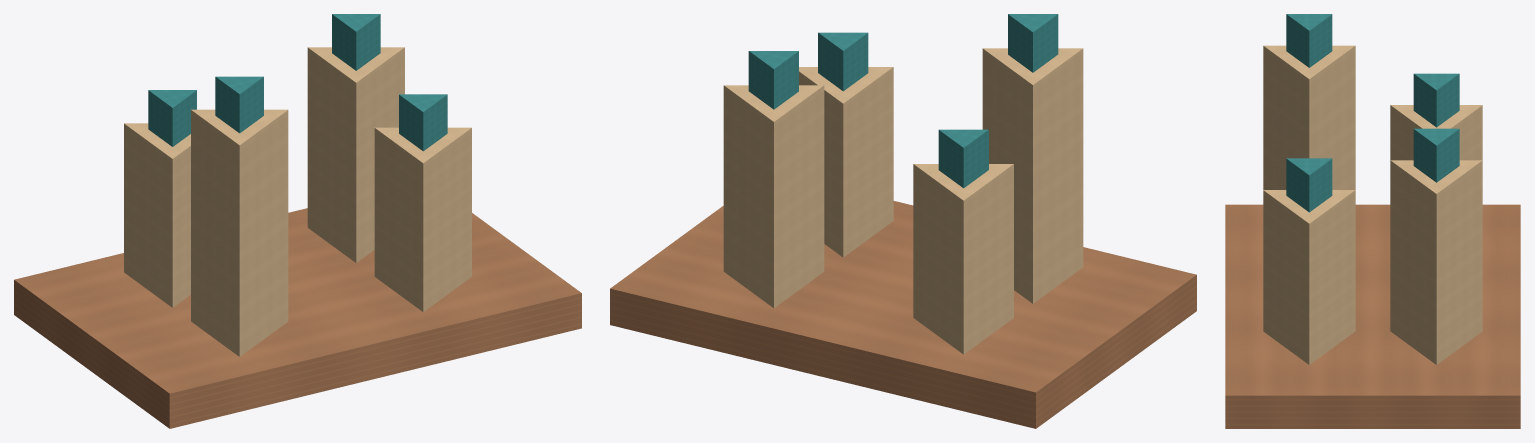
File: atlas100-s091-a04.lod2.glb
The picture shows the model from 3 angles, left to right: view 1: azimuth 30°, elevation 25°; view 2: azimuth 150°, elevation 25°; view 3: azimuth 270°, elevation 25°; orthographic projection. The views are drawn at different scales.
Visible parts, largest first — view 1: atlas100-s091-a04:part-000, atlas100-s091-a04:part-007, atlas100-s091-a04:part-010, atlas100-s091-a04:part-004, atlas100-s091-a04:part-001, atlas100-s091-a04:part-008, atlas100-s091-a04:part-011, atlas100-s091-a04:part-005, atlas100-s091-a04:part-002; view 2: atlas100-s091-a04:part-000, atlas100-s091-a04:part-004, atlas100-s091-a04:part-007, atlas100-s091-a04:part-001, atlas100-s091-a04:part-010, atlas100-s091-a04:part-002, atlas100-s091-a04:part-011, atlas100-s091-a04:part-008, atlas100-s091-a04:part-005; view 3: atlas100-s091-a04:part-000, atlas100-s091-a04:part-004, atlas100-s091-a04:part-010, atlas100-s091-a04:part-007, atlas100-s091-a04:part-001, atlas100-s091-a04:part-005, atlas100-s091-a04:part-011, atlas100-s091-a04:part-002, atlas100-s091-a04:part-008.
Boxes of the visible parts, box(x1,y1,x2,y2) form: atlas100-s091-a04:part-000: box(14, 208, 581, 428); atlas100-s091-a04:part-007: box(191, 109, 288, 356); atlas100-s091-a04:part-010: box(374, 127, 471, 312); atlas100-s091-a04:part-004: box(307, 47, 404, 262); atlas100-s091-a04:part-001: box(124, 123, 190, 307); atlas100-s091-a04:part-008: box(215, 76, 263, 133); atlas100-s091-a04:part-011: box(399, 94, 447, 151); atlas100-s091-a04:part-005: box(332, 14, 380, 70); atlas100-s091-a04:part-002: box(148, 90, 196, 146); atlas100-s091-a04:part-000: box(610, 201, 1196, 428); atlas100-s091-a04:part-004: box(723, 85, 824, 307); atlas100-s091-a04:part-007: box(982, 48, 1083, 303); atlas100-s091-a04:part-001: box(913, 164, 1013, 354); atlas100-s091-a04:part-010: box(799, 67, 893, 257); atlas100-s091-a04:part-002: box(938, 129, 988, 188); atlas100-s091-a04:part-011: box(818, 32, 868, 91); atlas100-s091-a04:part-008: box(1008, 14, 1058, 72); atlas100-s091-a04:part-005: box(748, 51, 798, 109); atlas100-s091-a04:part-000: box(1225, 204, 1520, 428); atlas100-s091-a04:part-004: box(1390, 160, 1482, 364); atlas100-s091-a04:part-010: box(1263, 190, 1355, 364); atlas100-s091-a04:part-007: box(1263, 45, 1355, 189); atlas100-s091-a04:part-001: box(1390, 105, 1482, 160); atlas100-s091-a04:part-005: box(1413, 128, 1459, 182); atlas100-s091-a04:part-011: box(1286, 158, 1332, 212); atlas100-s091-a04:part-002: box(1413, 73, 1459, 127); atlas100-s091-a04:part-008: box(1286, 14, 1332, 67).
Bounding box in the file's own units: 1.18 × 0.7804 × 0.7697.
3 materials, 3 textured.
